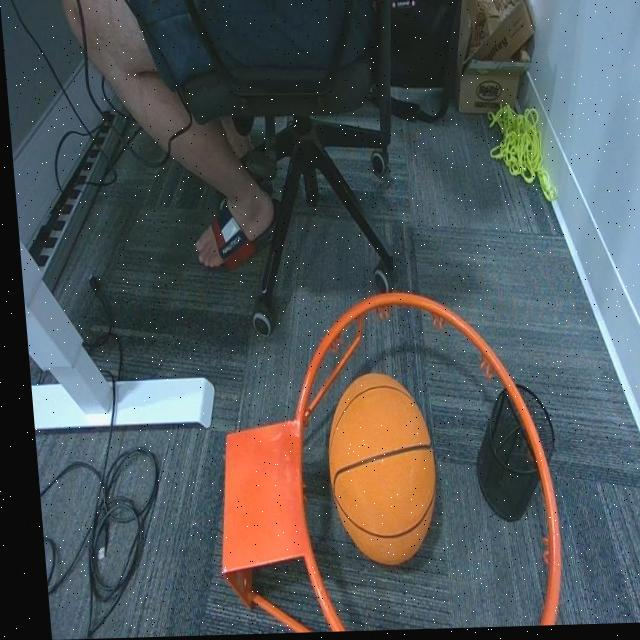hoop: (193, 285, 617, 635)
